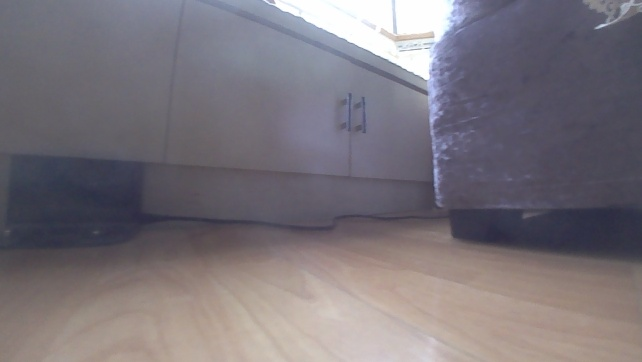charger: (0, 151, 147, 252)
sofa1: (422, 0, 641, 246)
wire: (137, 205, 454, 232)
